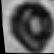correct: (1, 0, 54, 54)
